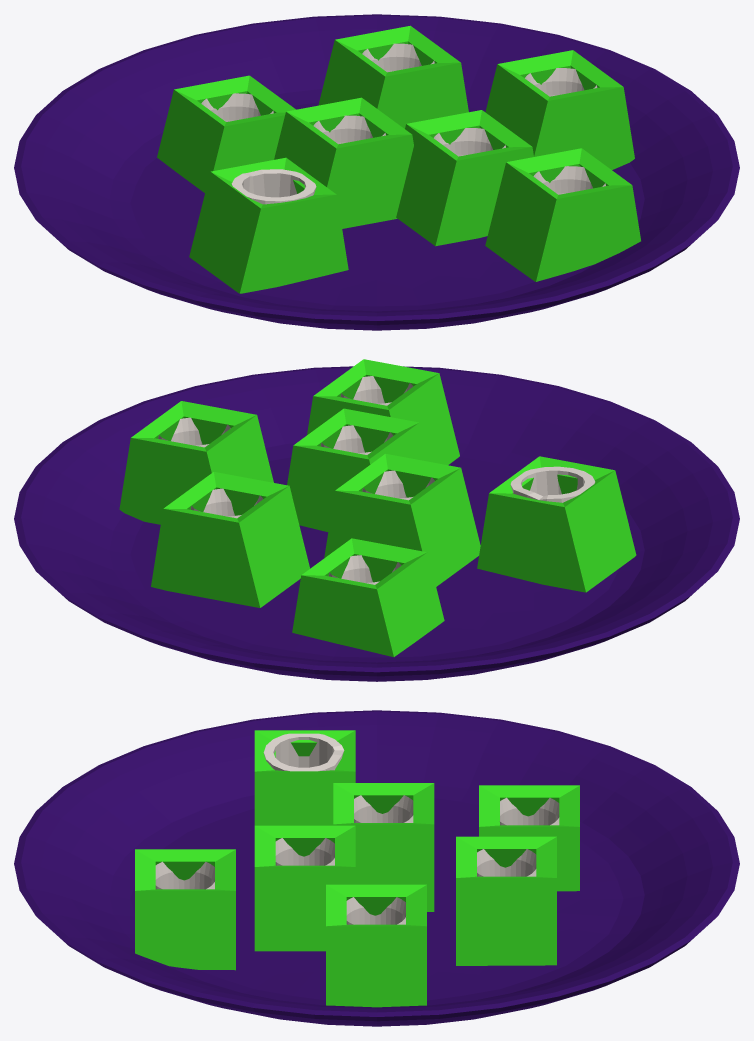
Rendered from APEM.fbx.
3 views of the same model, one above another, from view 1: azimuth 30°, elevation 25°; view 2: azimuth 150°, elevation 25°; view 3: azimuth 270°, elevation 25° (orthographic).
Parts seen in each view (by area): view 1: Cylinder, Cube.006, Cube.003, Cube.004, Cube, Cube.002, Cube.001, Cube.005, Cylinder.004, Cylinder.002, Cylinder.003, Cylinder.006 (+3 smaller); view 2: Cylinder, Cube.001, Cube.003, Cube.005, Cube.002, Cube, Cube.004, Cube.006, Cylinder.004, Cylinder.002, Cylinder.003, Cylinder.006 (+3 smaller); view 3: Cylinder, Cube.001, Cube, Cube.006, Cube.004, Cube.002, Cube.003, Cube.005, Cylinder.004, Cylinder.007, Cylinder.006, Cylinder.005 (+3 smaller).
Part boxes in pixels (x1=…): Cylinder: x1=14, y1=14, x2=739, y2=330; Cube.006: x1=485, y1=148, x2=640, y2=281; Cube.003: x1=189, y1=157, x2=348, y2=293; Cube.004: x1=396, y1=110, x2=533, y2=246; Cube: x1=485, y1=50, x2=634, y2=169; Cube.002: x1=274, y1=97, x2=413, y2=228; Cube.001: x1=318, y1=25, x2=468, y2=128; Cube.005: x1=157, y1=75, x2=295, y2=192; Cylinder.004: x1=231, y1=169, x2=316, y2=204; Cylinder.002: x1=362, y1=43, x2=434, y2=72; Cylinder.003: x1=313, y1=115, x2=385, y2=144; Cylinder.006: x1=201, y1=93, x2=273, y2=121; Cylinder: x1=14, y1=366, x2=739, y2=681; Cube.001: x1=151, y1=472, x2=309, y2=607; Cube.003: x1=477, y1=456, x2=636, y2=592; Cube.005: x1=292, y1=538, x2=444, y2=657; Cube.002: x1=324, y1=453, x2=480, y2=586; Cube: x1=119, y1=401, x2=273, y2=524; Cube.004: x1=287, y1=408, x2=429, y2=531; Cube.006: x1=307, y1=359, x2=459, y2=465; Cylinder.004: x1=510, y1=466, x2=595, y2=502; Cylinder.002: x1=190, y1=488, x2=262, y2=518; Cylinder.003: x1=362, y1=470, x2=434, y2=500; Cylinder.006: x1=328, y1=555, x2=401, y2=584; Cylinder: x1=14, y1=710, x2=739, y2=1026; Cube.001: x1=456, y1=836, x2=556, y2=965; Cube: x1=326, y1=884, x2=426, y2=1007; Cube.006: x1=135, y1=849, x2=235, y2=970; Cube.004: x1=254, y1=825, x2=355, y2=951; Cube.002: x1=333, y1=783, x2=434, y2=911; Cube.003: x1=254, y1=730, x2=355, y2=825; Cube.005: x1=479, y1=785, x2=579, y2=891; Cylinder.004: x1=263, y1=733, x2=344, y2=771; Cylinder.007: x1=155, y1=861, x2=214, y2=889; Cylinder.006: x1=499, y1=797, x2=559, y2=825; Cylinder.005: x1=275, y1=838, x2=334, y2=865.
Size of the model in its own units: 231 by 41.37 by 231.
